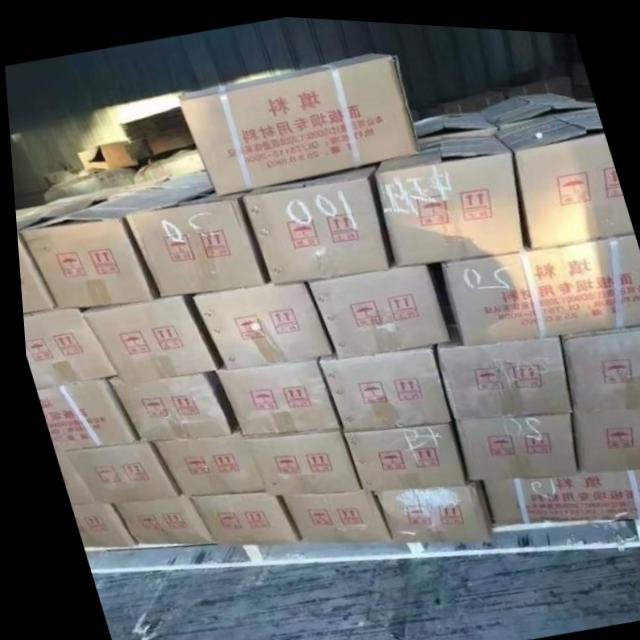box: (175, 47, 417, 194), (437, 225, 640, 340), (490, 100, 631, 242), (372, 127, 520, 261), (238, 158, 389, 281), (15, 193, 175, 308), (120, 185, 265, 295), (303, 258, 447, 353), (186, 278, 329, 368), (430, 320, 566, 413), (77, 292, 215, 380), (313, 341, 446, 427), (211, 355, 334, 433), (476, 461, 640, 519), (103, 369, 231, 440), (448, 406, 570, 475), (337, 418, 459, 485), (18, 306, 110, 390), (235, 426, 353, 491), (554, 317, 640, 406), (30, 377, 133, 450), (366, 475, 484, 538), (145, 427, 257, 493), (59, 440, 174, 501), (273, 486, 384, 538), (182, 489, 292, 541), (105, 494, 210, 542), (565, 399, 640, 465), (13, 216, 52, 313), (485, 93, 595, 124), (63, 501, 128, 546), (48, 450, 86, 503), (415, 111, 493, 133)
